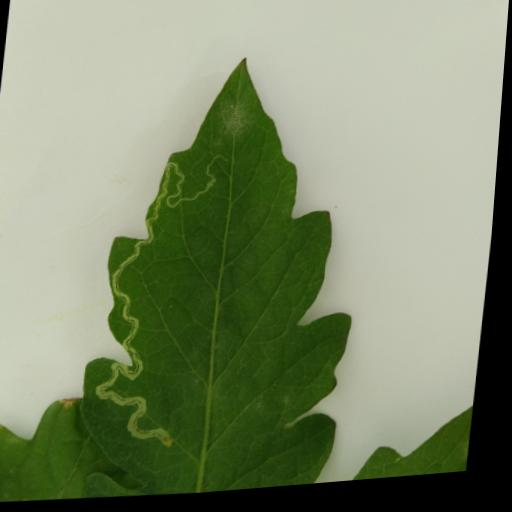Leaf_Miner: (79, 44, 389, 505)
